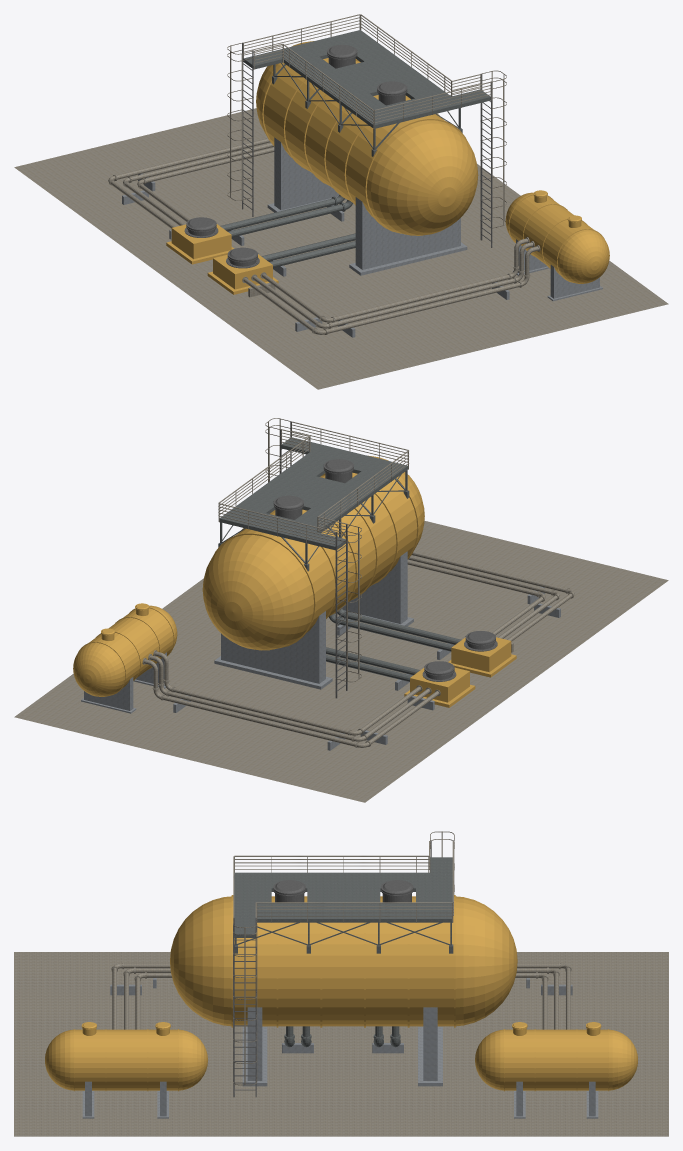
Rendered from Industrial Silo_6_obj.obj.
3 renders of one model, top to bottom at view 1: azimuth 30°, elevation 25°; view 2: azimuth 150°, elevation 25°; view 3: azimuth 270°, elevation 25°, orthographic. The views are drawn at different scales.
Visible parts, largest first — view 1: IS06_OBJ_05, IS06_OBJ_06, IS06_OBJ_04, IS06_OBJ_01, IS06_OBJ_03, IS06_OBJ_02; view 2: IS06_OBJ_05, IS06_OBJ_06, IS06_OBJ_04, IS06_OBJ_01, IS06_OBJ_03, IS06_OBJ_02; view 3: IS06_OBJ_05, IS06_OBJ_06, IS06_OBJ_01, IS06_OBJ_04, IS06_OBJ_03, IS06_OBJ_02.
Boxes of the visible parts, <box> form: IS06_OBJ_05: <box>14,108,668,389</box>; IS06_OBJ_06: <box>256,41,609,301</box>; IS06_OBJ_04: <box>108,138,540,337</box>; IS06_OBJ_01: <box>243,30,490,156</box>; IS06_OBJ_03: <box>243,14,491,128</box>; IS06_OBJ_02: <box>227,42,506,247</box>; IS06_OBJ_05: <box>14,520,668,802</box>; IS06_OBJ_06: <box>73,455,424,713</box>; IS06_OBJ_04: <box>142,551,574,750</box>; IS06_OBJ_01: <box>218,437,409,571</box>; IS06_OBJ_03: <box>218,421,409,544</box>; IS06_OBJ_02: <box>265,418,361,698</box>; IS06_OBJ_05: <box>14,952,668,1136</box>; IS06_OBJ_06: <box>45,880,637,1118</box>; IS06_OBJ_01: <box>234,857,453,953</box>; IS06_OBJ_04: <box>110,962,572,1053</box>; IS06_OBJ_03: <box>233,841,453,922</box>; IS06_OBJ_02: <box>233,831,454,1097</box>.
Size of the model in its own units: 720 by 326 by 1080.
8 materials, 8 textured.
